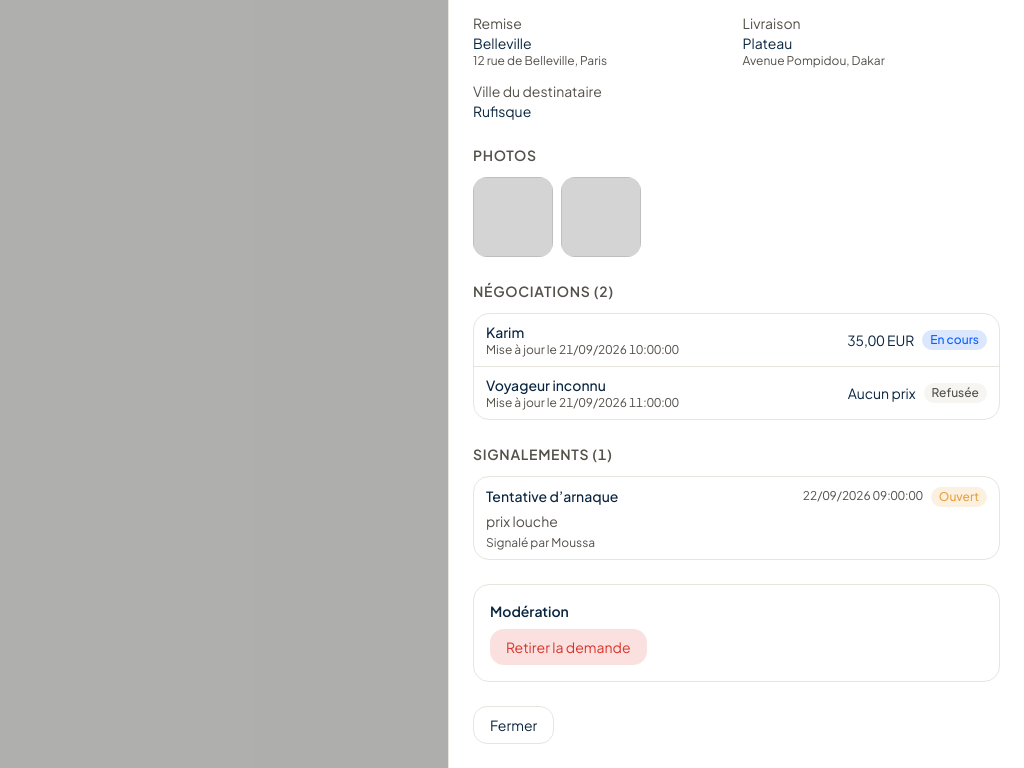
it: PackageRequestDetailPanel › Retirer › une seule négociation ouverte : accord au singulier
(page scrolled)
Click the button with test id "pr-remove": (568, 647) [490,629,646,665]
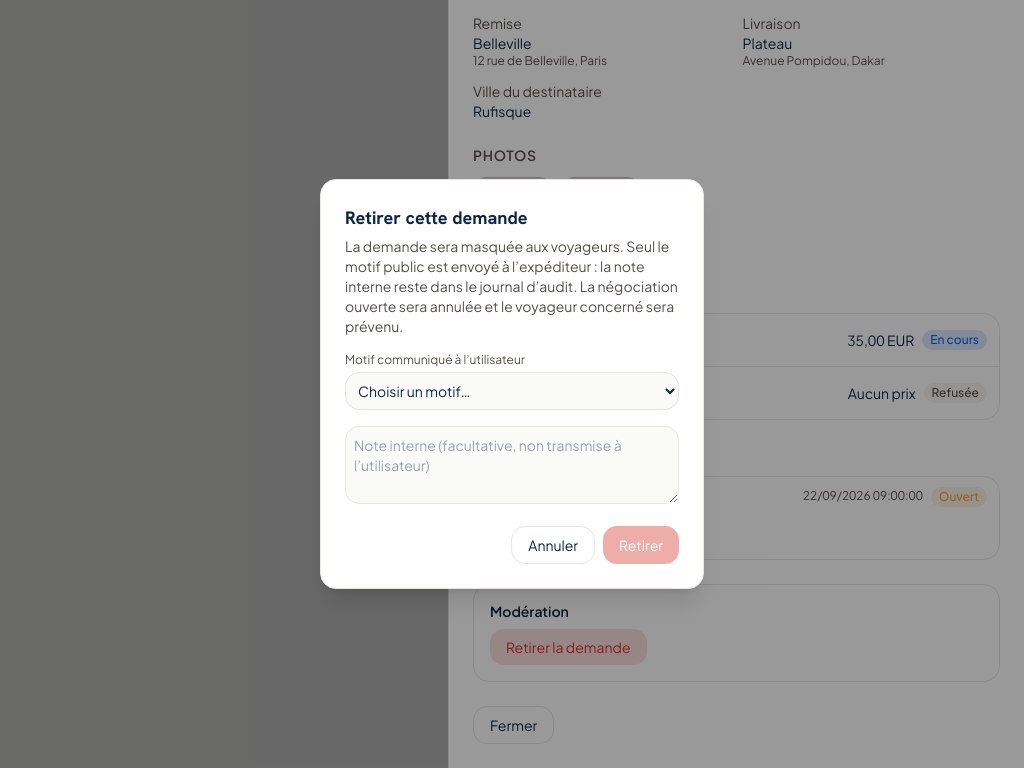
Expected: the element with test id "overlay" shows "La négociation ouverte sera annulée et le voyageur concerné sera prévenu", [345,237,678,335]
